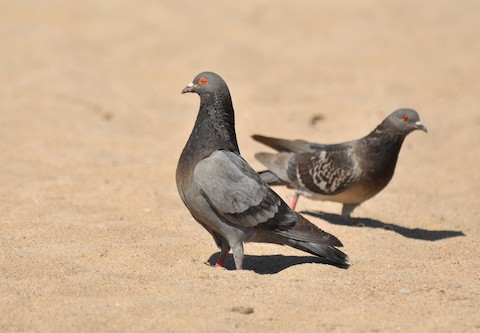pigeon: (165, 65, 356, 274), (250, 104, 433, 224)
